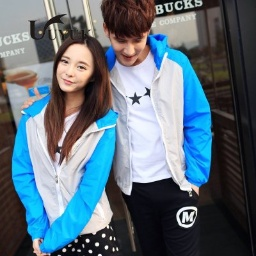face: (42, 31, 110, 102), (98, 1, 157, 70)
